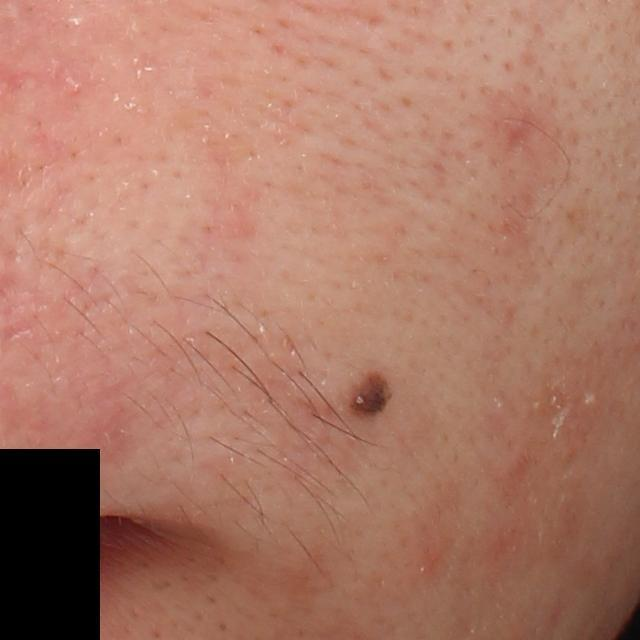atrophic_scar: (502, 113, 544, 163)
nevus: (342, 367, 403, 423)
